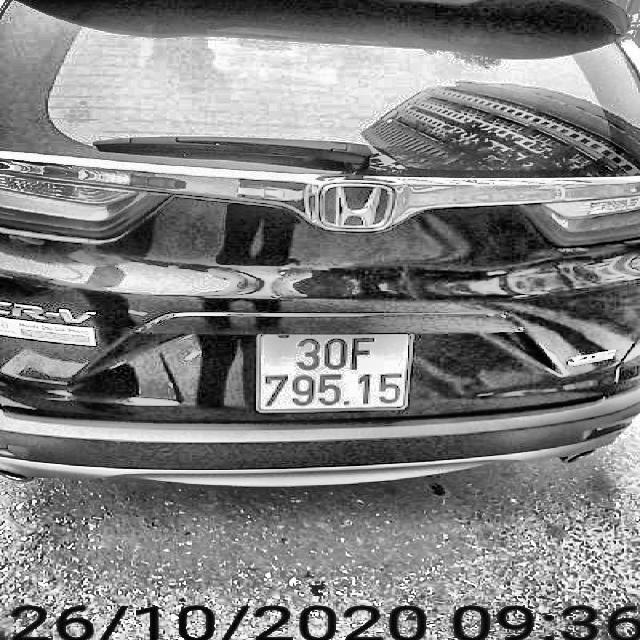plate: (246, 322, 417, 416)
